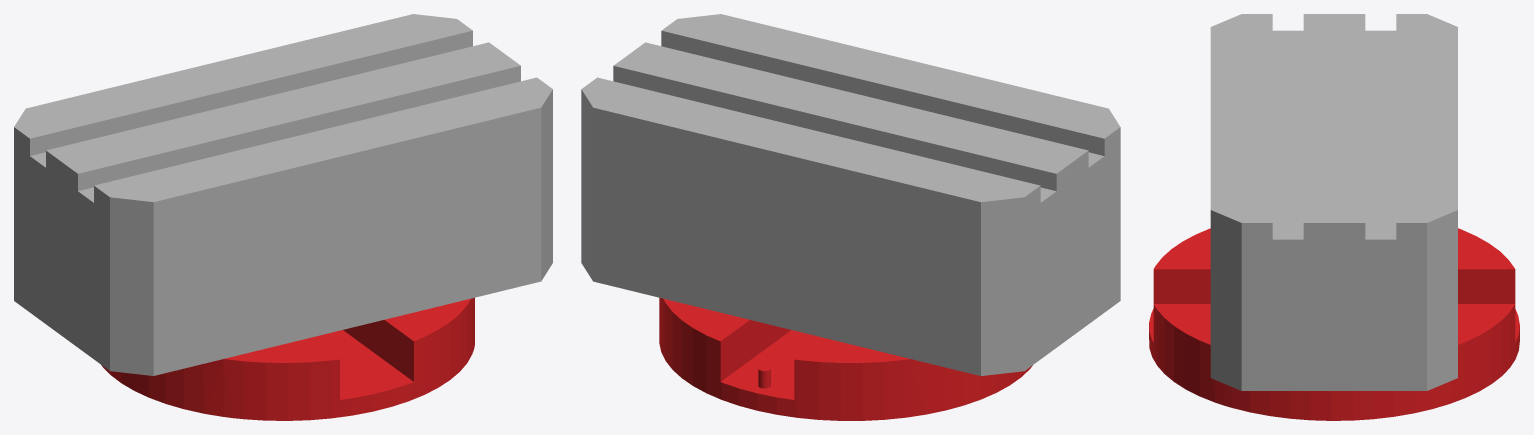
Rendered from Astorino_Robot_Gripper_Base.dae.
3 views of the same model, side by side, from view 1: azimuth 30°, elevation 25°; view 2: azimuth 150°, elevation 25°; view 3: azimuth 270°, elevation 25° (orthographic). The views are drawn at different scales.
Visible parts, largest first — view 1: Astorino Robot Gripper Base.001; view 2: Astorino Robot Gripper Base.001; view 3: Astorino Robot Gripper Base.001.
Boxes of the visible parts, left/top/right/bottom form: Astorino Robot Gripper Base.001: left=14, top=14, right=552, bottom=420; Astorino Robot Gripper Base.001: left=581, top=14, right=1120, bottom=420; Astorino Robot Gripper Base.001: left=1149, top=14, right=1519, bottom=420.
Bounding box in the file's own units: 0.08 × 0.06 × 0.04.
